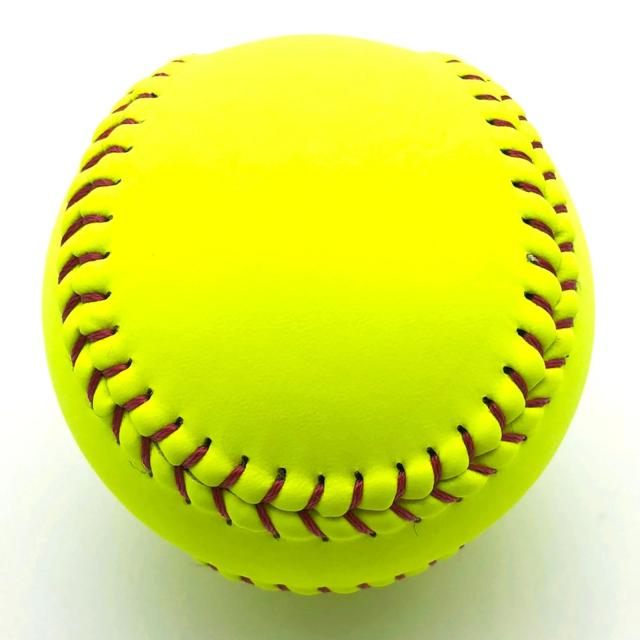softball ball: (47, 37, 590, 594)
